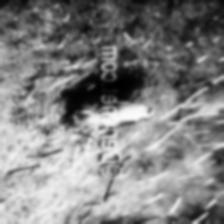Potentially Malignant Skin Tumors: (122, 81, 164, 139), (66, 82, 92, 138)
